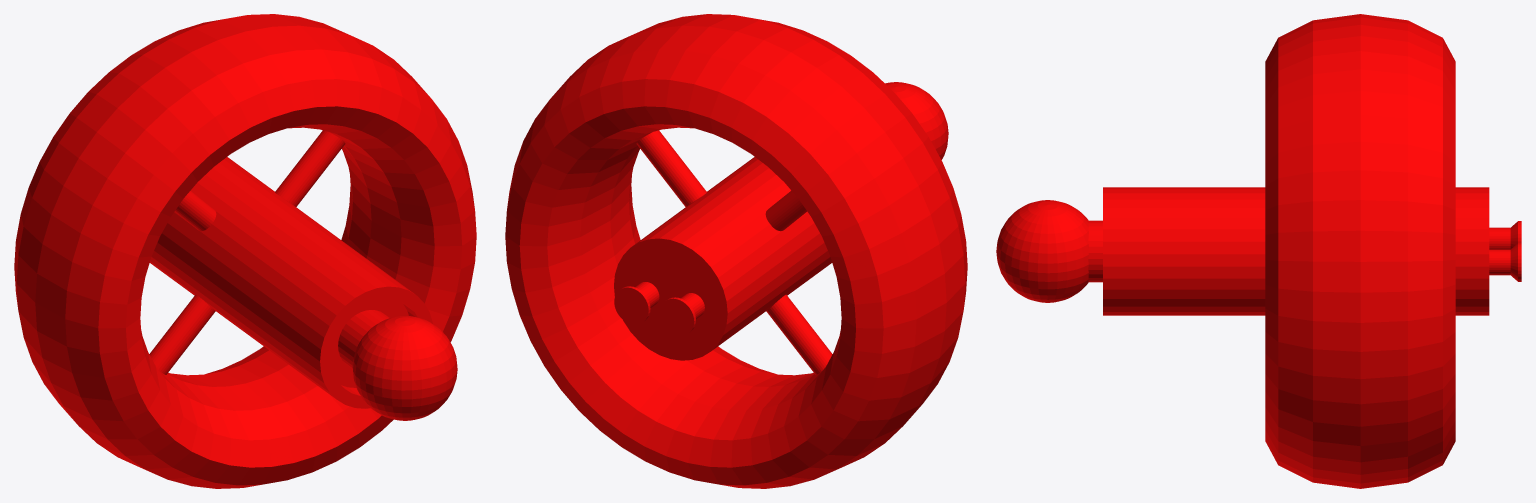
File: Vorlon.fbx
3 views of the same model, side by side, from view 1: azimuth 30°, elevation 25°; view 2: azimuth 150°, elevation 25°; view 3: azimuth 270°, elevation 25° (orthographic). The views are drawn at different scales.
Parts seen in each view (by area): view 1: Cube; view 2: Cube; view 3: Cube.
Part boxes in pixels (bbox=[...]): Cube: bbox=[14, 14, 476, 488]; Cube: bbox=[505, 14, 967, 488]; Cube: bbox=[996, 14, 1521, 488].
Size of the model in its own units: 369 by 369 by 408.
